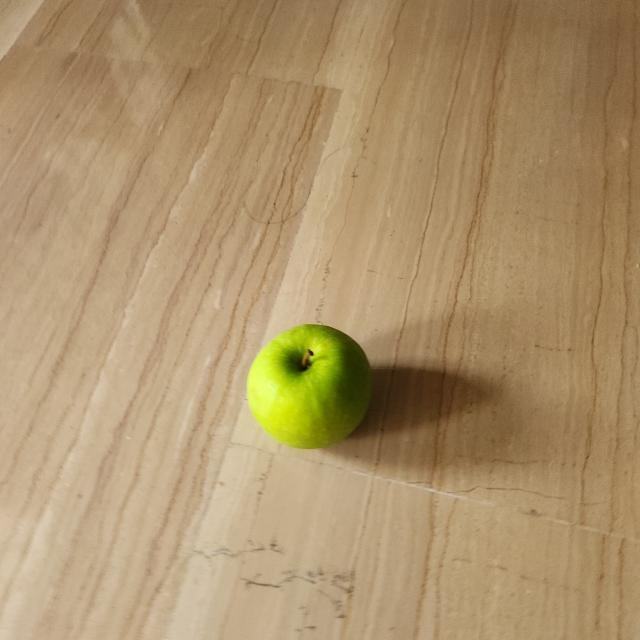apple: (234, 316, 378, 458)
